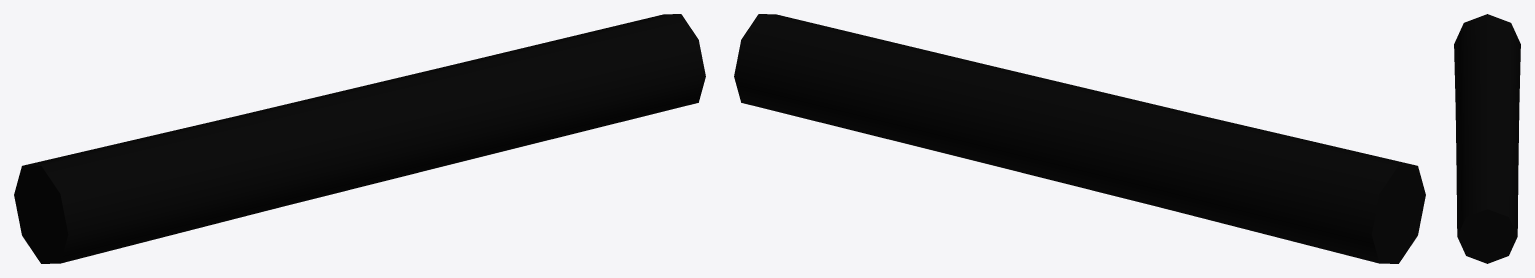
The model's file is SM_log_birch.fbx.
3 views of the same model, side by side, from view 1: azimuth 30°, elevation 25°; view 2: azimuth 150°, elevation 25°; view 3: azimuth 270°, elevation 25° (orthographic). The views are drawn at different scales.
Parts seen in each view (by area): view 1: log_birch; view 2: log_birch; view 3: log_birch.
Part boxes in pixels (x1=…): log_birch: x1=14, y1=14, x2=705, y2=263; log_birch: x1=734, y1=14, x2=1425, y2=263; log_birch: x1=1454, y1=14, x2=1520, y2=263.
Size of the model in its own units: 2 by 0.294 by 0.294.
